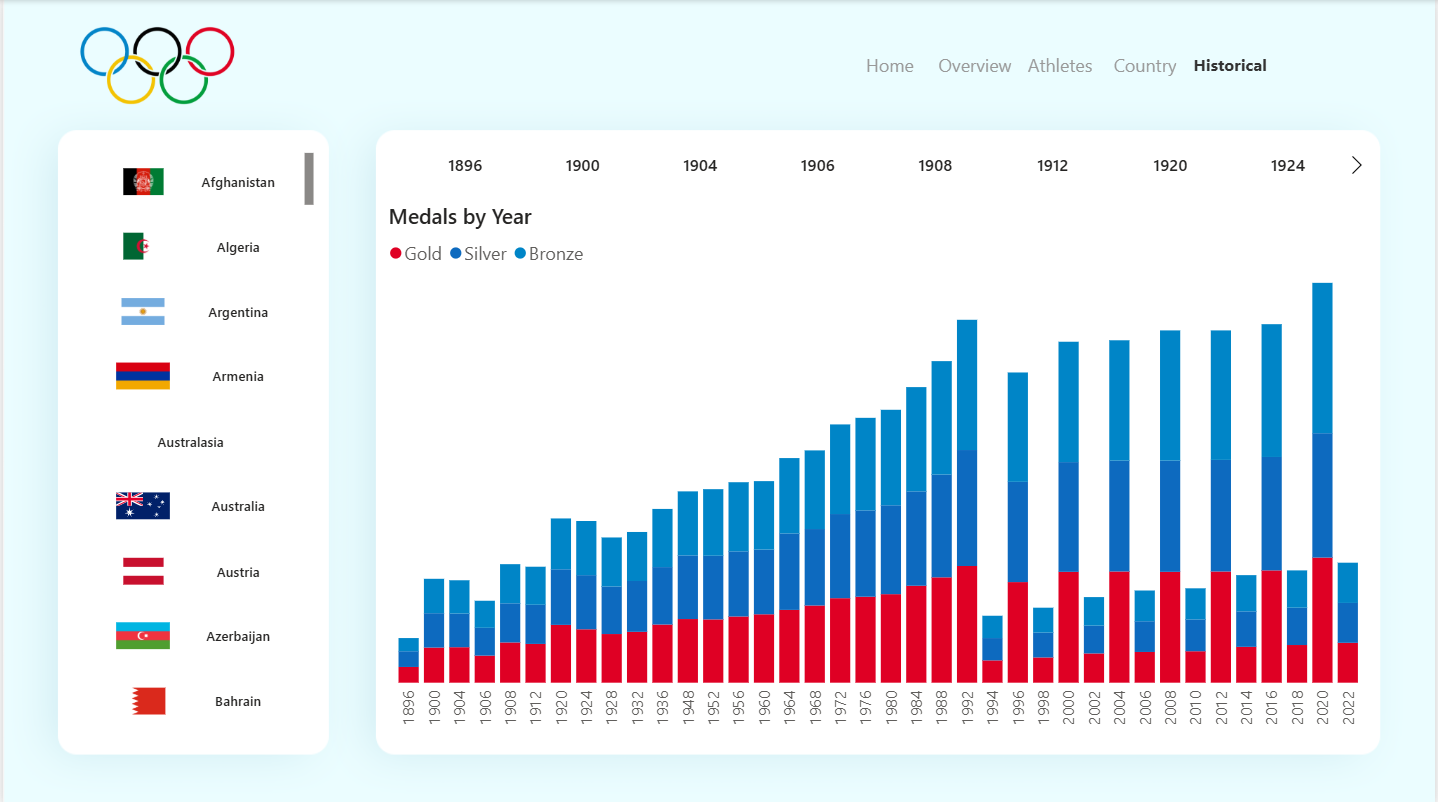

The dashboard page shown, as its layout file describes it:
{"tool":"powerbi","page":{"name":"Historical","canvas":[1280,720],"ordinal":4},"visuals":[{"type":"advancedSlicerVisual","fields":{"Values":["Historical.country"]},"box":[66.5,131.7,215.7,531.7],"z":0},{"type":"pageNavigator","box":[759,32,370,50.2],"z":1000},{"type":"image","box":[57.1,0,163,116],"z":2000},{"type":"columnChart","title":"Medals by Year","fields":{"Category":["Historical.year"],"Y":["Sum(Historical.gold)","Sum(Historical.silver)","Sum(Historical.bronze)"]},"box":[339.9,179.5,885.3,483.3],"z":3000},{"type":"advancedSlicerVisual","fields":{"Values":["Historical.year"]},"box":[339.9,124.2,885.3,46.3],"z":4000}]}

Visuals, with their boxes in screenshot pixels (x1, y1, x2, y2), scaled from the page's 1280x720 canvas onto the 1438x802 screenshot:
advancedSlicerVisual - Historical.country: (75,147,317,739)
pageNavigator: (853,36,1268,92)
image: (64,0,247,129)
"Medals by Year" columnChart: (382,200,1376,738)
advancedSlicerVisual - Historical.year: (382,138,1376,190)
